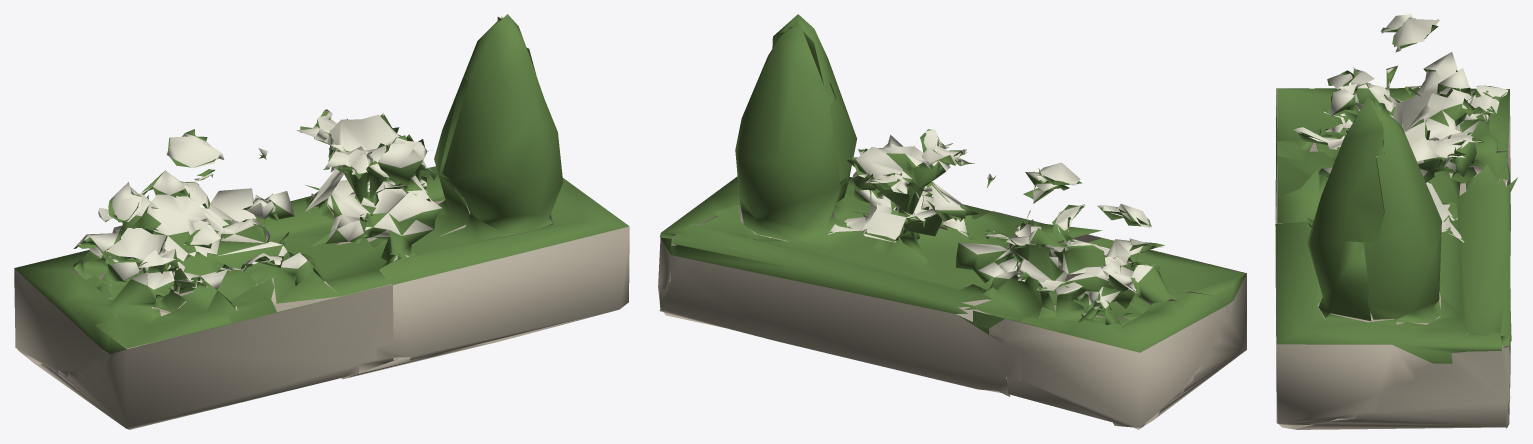
3 views of the same model, side by side, from view 1: azimuth 30°, elevation 25°; view 2: azimuth 150°, elevation 25°; view 3: azimuth 270°, elevation 25° (orthographic). The views are drawn at different scales.
Visible parts, largest first — view 1: quad; view 2: quad; view 3: quad.
Boxes of the visible parts, x1,y1,x2,y2 form: quad: (14,14,629,429); quad: (658,14,1246,429); quad: (1275,14,1517,429).
Size of the model in its own units: 300 by 161 by 120.
